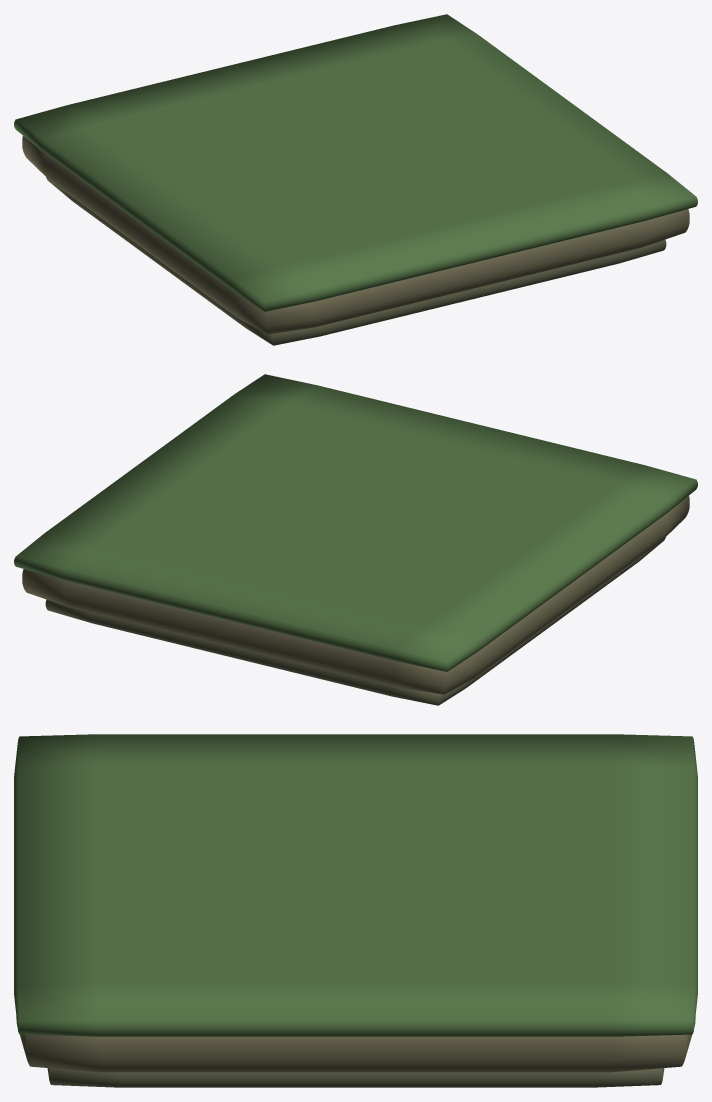
File: island.glb
The picture shows the model from 3 angles, top to bottom: view 1: azimuth 30°, elevation 25°; view 2: azimuth 150°, elevation 25°; view 3: azimuth 270°, elevation 25°; orthographic projection. The views are drawn at different scales.
Parts seen in each view (by area): view 1: rim, earth, under; view 2: rim, earth, under; view 3: rim, earth, under.
Part boxes in pixels (x1=…): rim: x1=14, y1=14, x2=697, y2=311; earth: x1=22, y1=136, x2=689, y2=334; under: x1=46, y1=177, x2=666, y2=345; rim: x1=14, y1=374, x2=697, y2=671; earth: x1=22, y1=496, x2=689, y2=694; under: x1=45, y1=537, x2=665, y2=705; rim: x1=14, y1=734, x2=697, y2=1036; earth: x1=16, y1=1017, x2=695, y2=1072; under: x1=47, y1=1068, x2=664, y2=1087.
Bounding box in the file's own units: 7.3 × 1.04 × 7.3.
